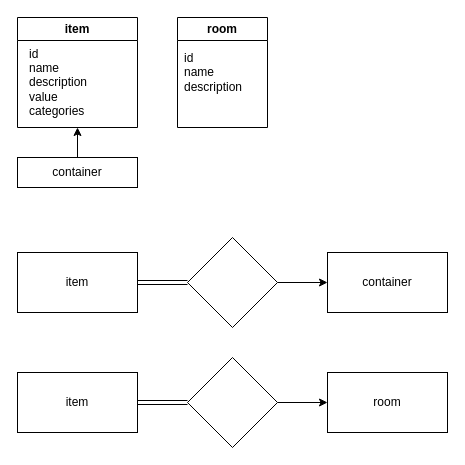
This 465x465 diagram has some shape labels left out. The shapes that lost their labels are listed below. From the top down, each one's centre as x and y in pixels, then its label:
the point at 232,282: isContainedIn
the point at 232,402: isStoredIn
